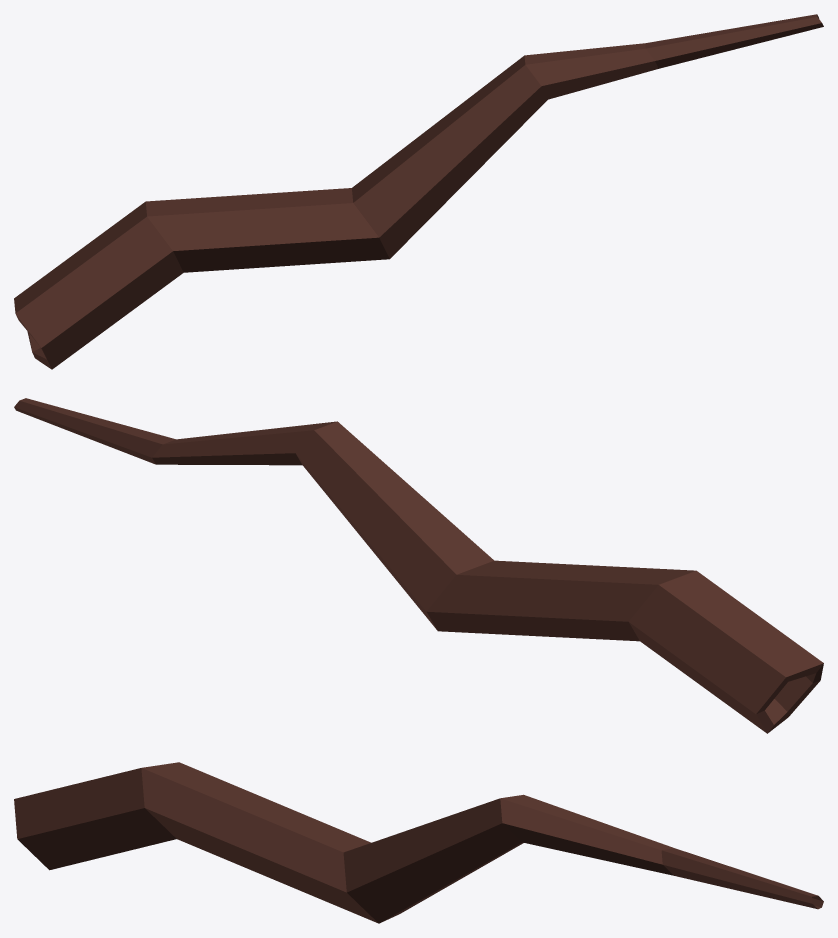
File: Branch.fbx
3 views of the same model, one above another, from view 1: azimuth 30°, elevation 25°; view 2: azimuth 150°, elevation 25°; view 3: azimuth 330°, elevation 25° (orthographic). The views are drawn at different scales.
Visible parts, largest first — view 1: branch.001; view 2: branch.001; view 3: branch.001.
Part boxes in pixels (x1=…): branch.001: x1=14, y1=14, x2=823, y2=369; branch.001: x1=14, y1=398, x2=823, y2=733; branch.001: x1=14, y1=762, x2=823, y2=923.
Size of the model in its own units: 281 by 63.7 by 26.21.
